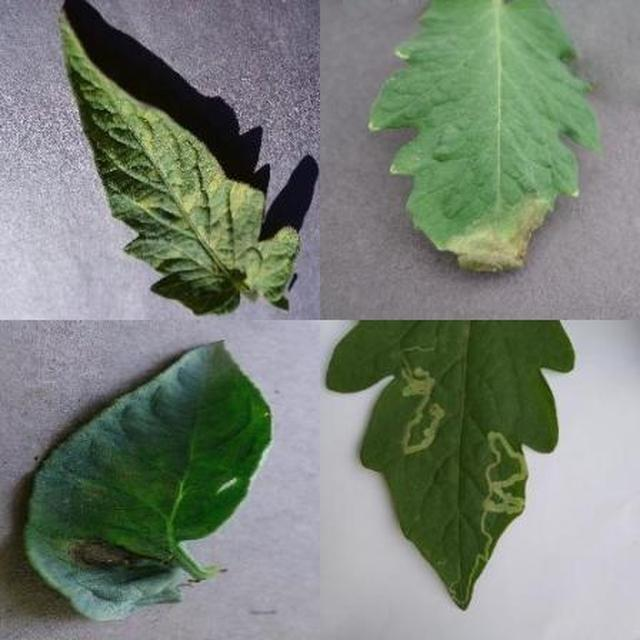Leaf Mold: (209, 201, 640, 640)
